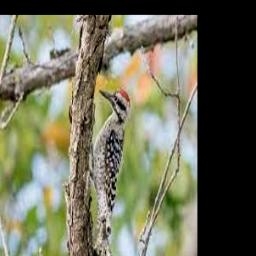Woodpecker: (90, 88, 131, 256)
